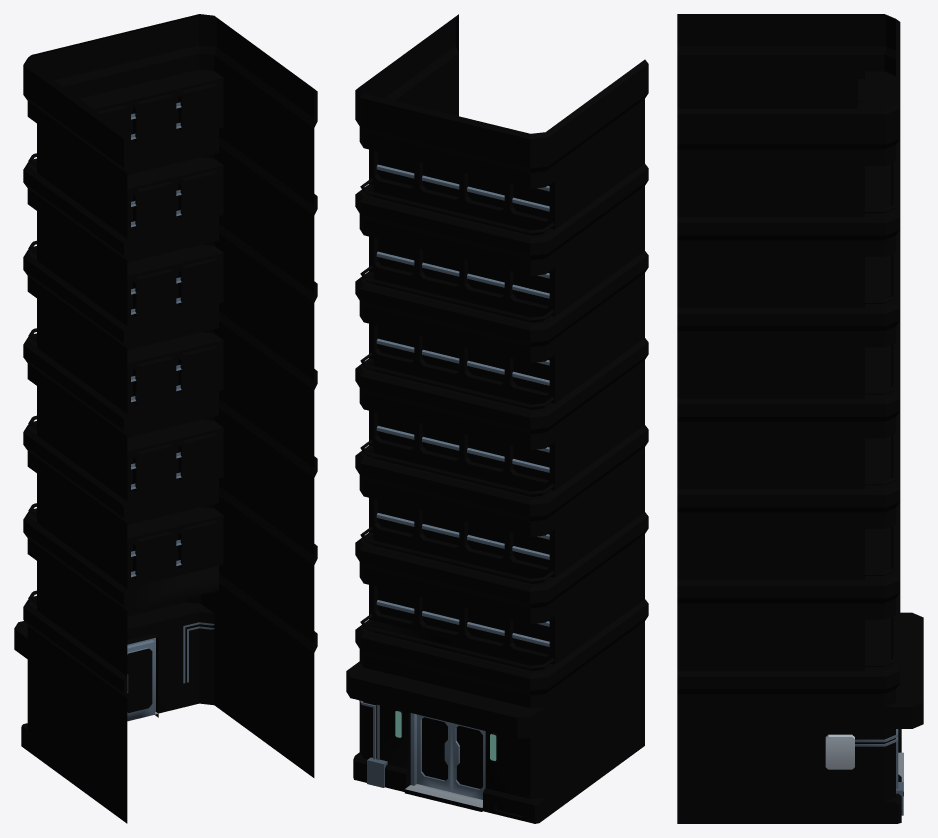
The model's file is Ciudad_Edificio_03.FBX.
3 views of the same model, side by side, from view 1: azimuth 30°, elevation 25°; view 2: azimuth 150°, elevation 25°; view 3: azimuth 270°, elevation 25° (orthographic). The views are drawn at different scales.
Parts seen in each view (by area): view 1: Ciudad_Edificio_03; view 2: Ciudad_Edificio_03; view 3: Ciudad_Edificio_03.
Part boxes in pixels (bbox=[...]): Ciudad_Edificio_03: bbox=[14, 14, 317, 823]; Ciudad_Edificio_03: bbox=[346, 14, 648, 823]; Ciudad_Edificio_03: bbox=[677, 14, 923, 823].
Bounding box in the file's own units: 825 × 871 × 2790.
